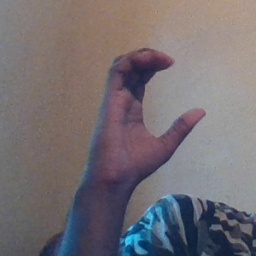C: (108, 43, 212, 158)
